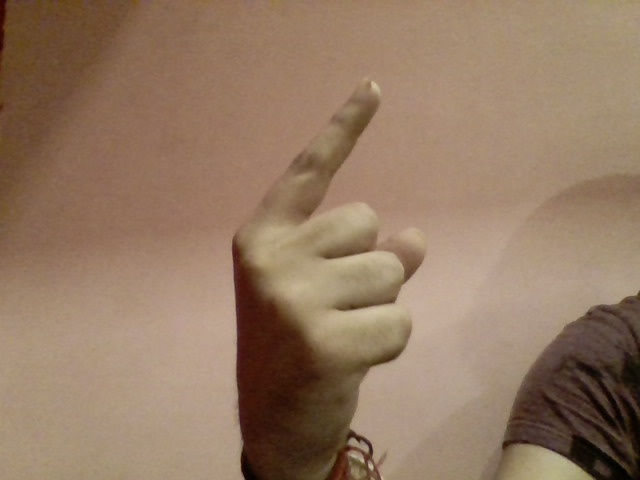z: (198, 68, 434, 438)
